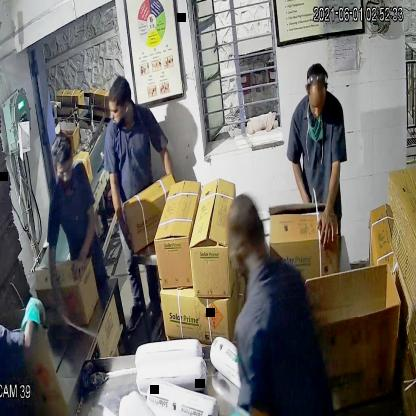goggles: (55, 160, 75, 185)
